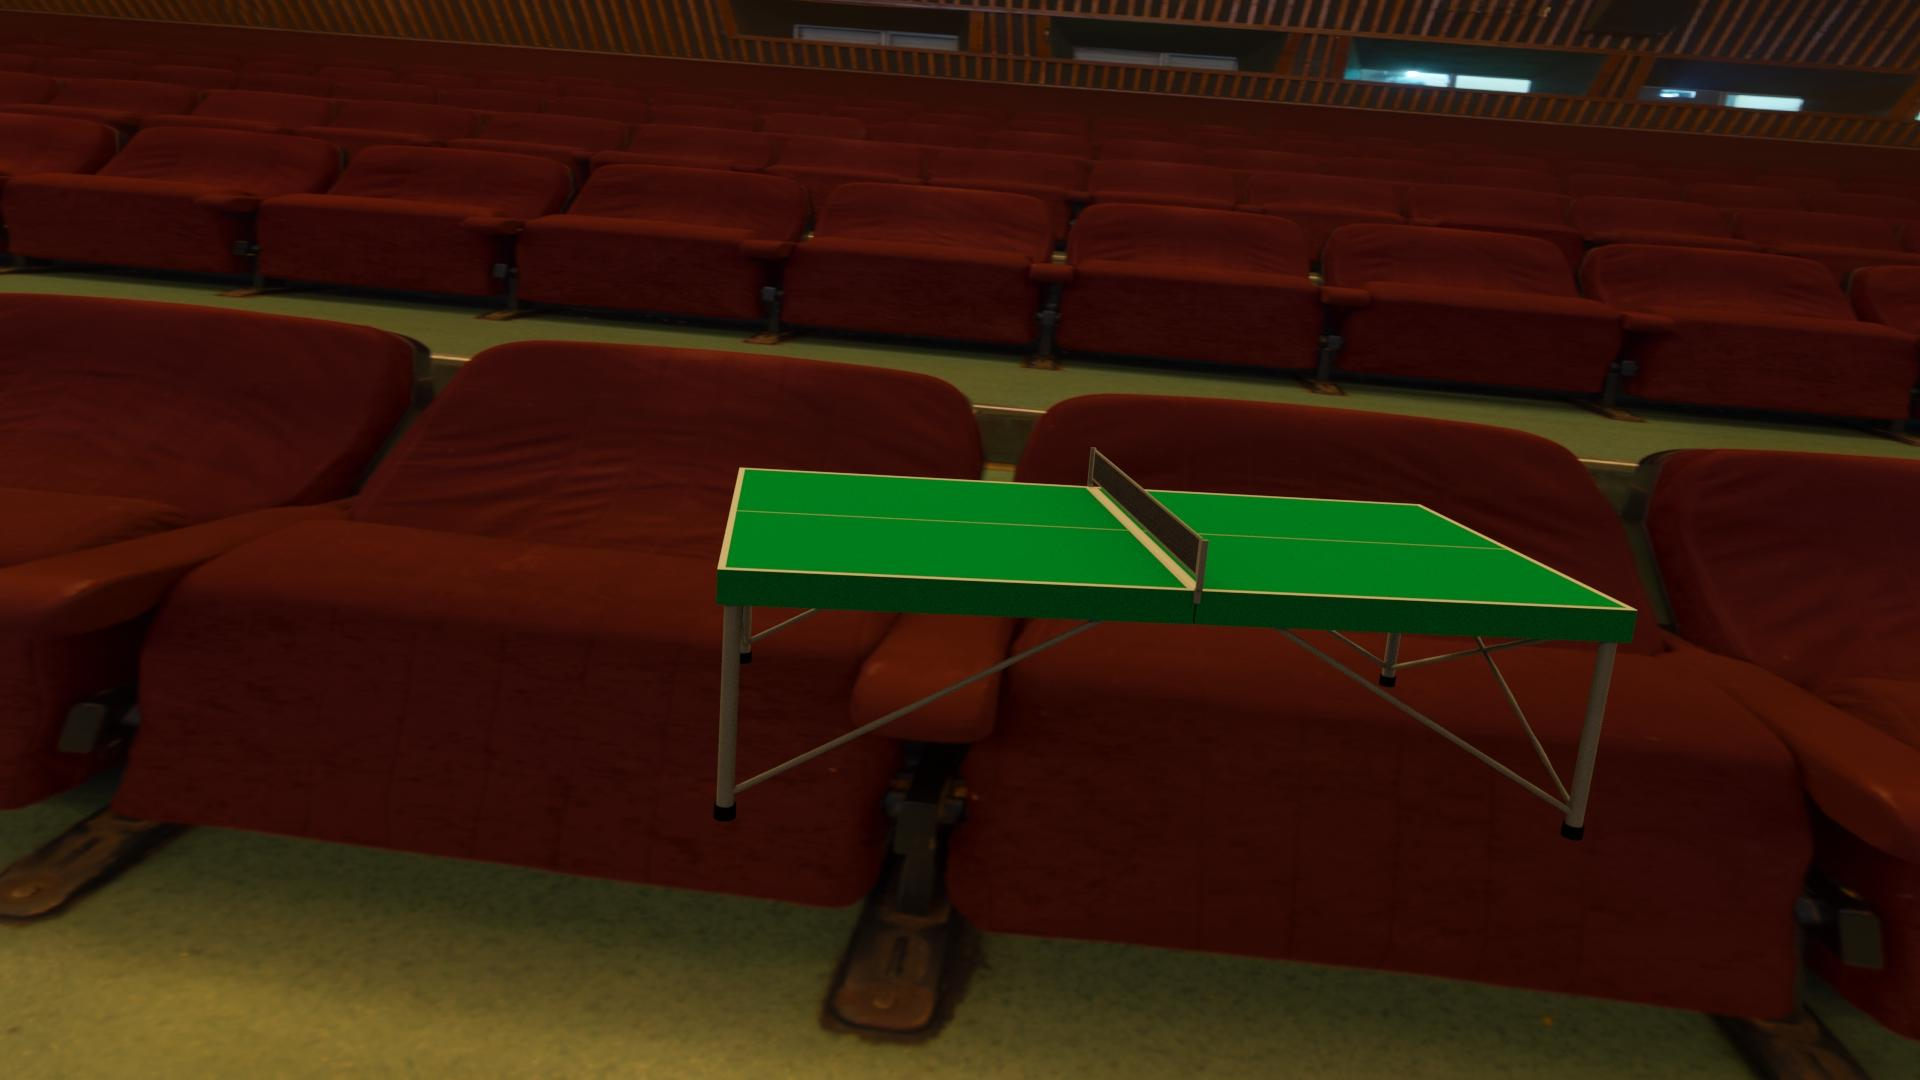table: (725, 469, 1627, 608)
